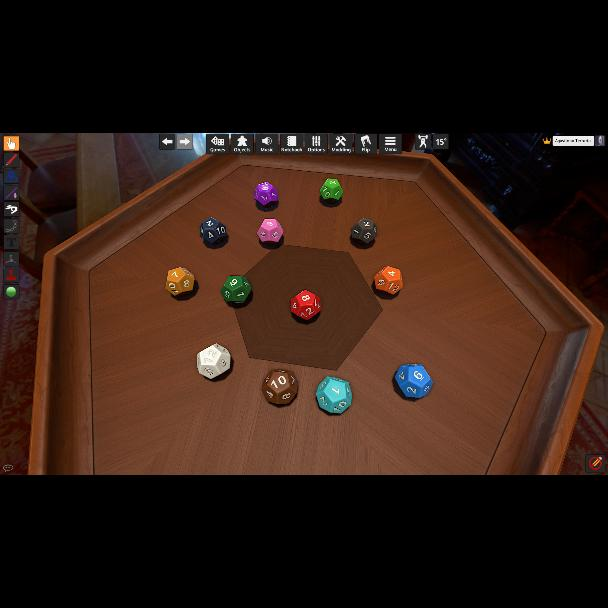d12: (262, 369, 298, 405), (315, 376, 349, 412), (394, 363, 430, 397), (197, 342, 230, 378), (165, 268, 195, 298), (290, 290, 320, 320), (373, 266, 401, 296), (220, 276, 250, 304), (257, 218, 283, 246), (350, 219, 376, 245), (200, 218, 224, 246), (254, 182, 278, 209), (318, 179, 342, 203)
